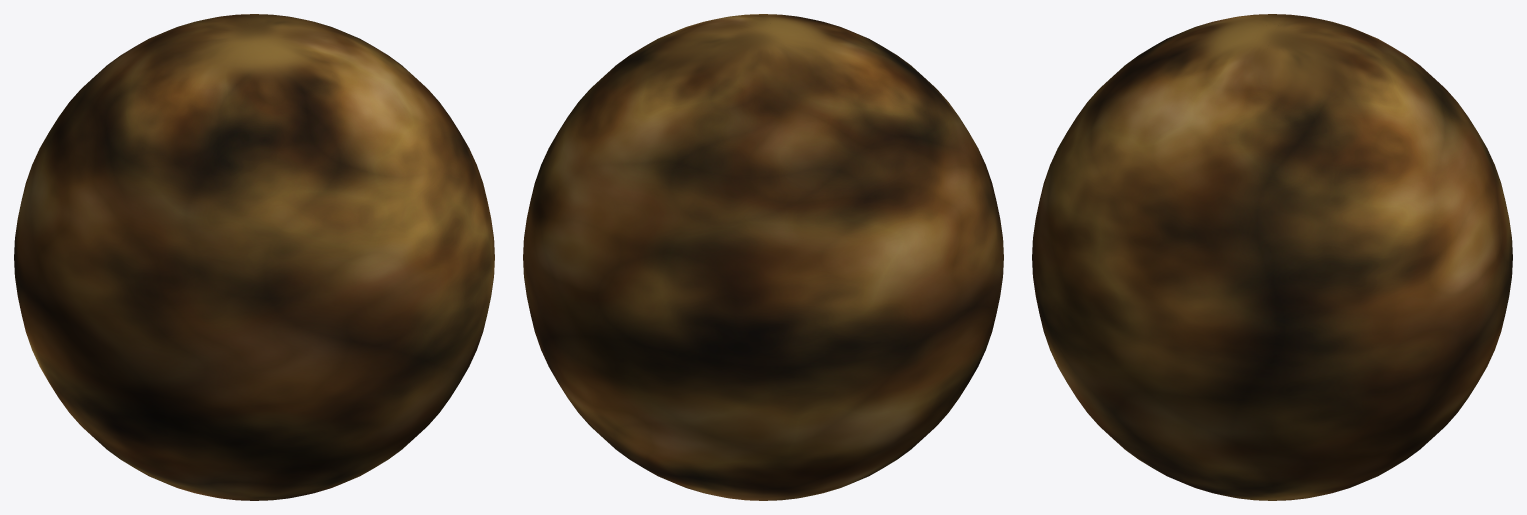
The model's file is planet.fbx.
3 renders of one model, left to right at view 1: azimuth 30°, elevation 25°; view 2: azimuth 150°, elevation 25°; view 3: azimuth 270°, elevation 25°, orthographic.
Visible parts, largest first — view 1: Default; view 2: Default; view 3: Default.
Boxes of the visible parts, left/top/right/bottom form: Default: left=14, top=14, right=494, bottom=500; Default: left=523, top=14, right=1003, bottom=500; Default: left=1032, top=14, right=1512, bottom=500.
Size of the model in its own units: 0.9811 by 0.9986 by 0.9812.
Materials: 1 (1 with a texture image).
